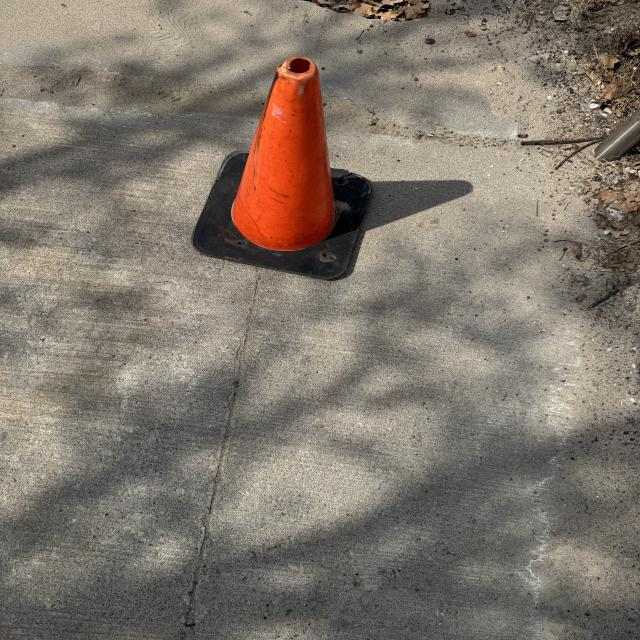Traffic Cone: (190, 56, 377, 278)
